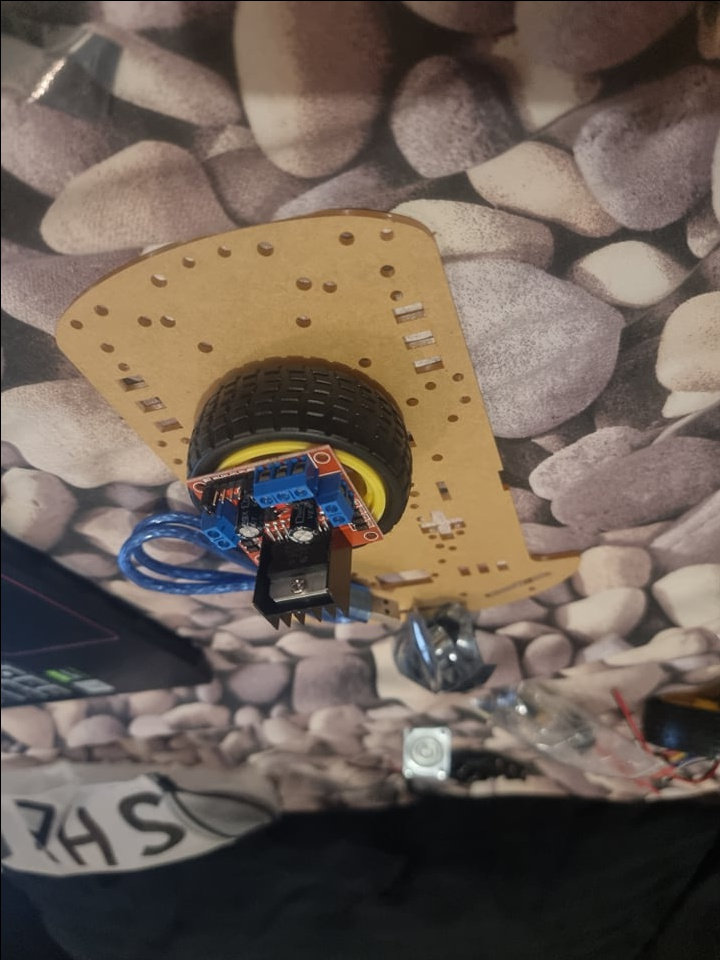MOTOR: (185, 441, 382, 630)
